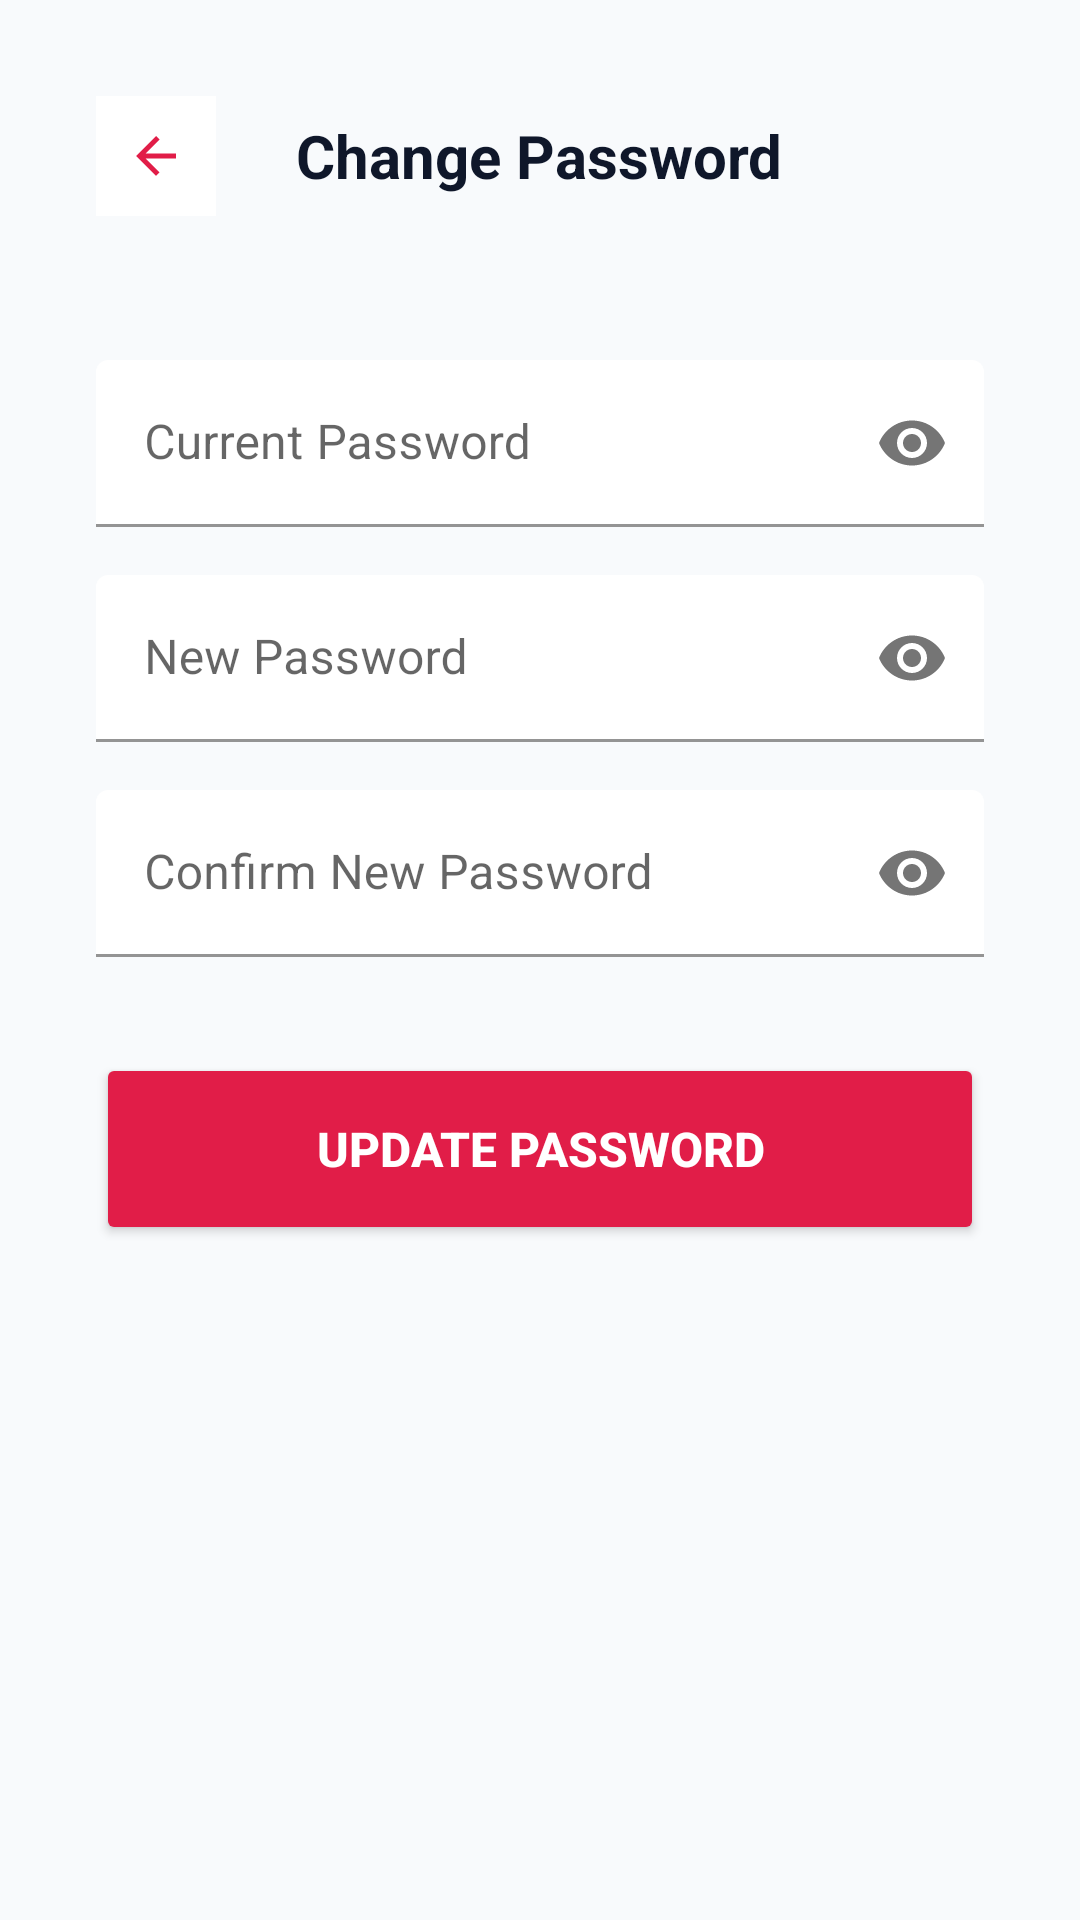

Where icons sit on this 1080x1920 app screen, as (x1, y1, x2, y2):
Back: (136, 136, 176, 176)
